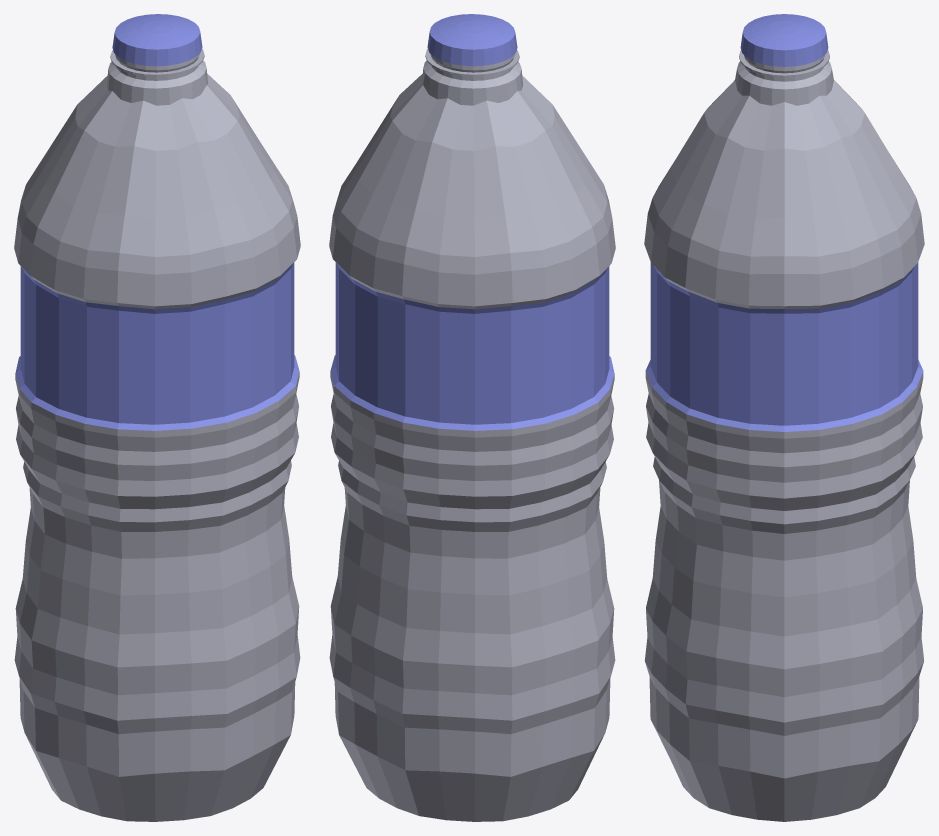
File: BotellaAgua.fbx
3 renders of one model, left to right at view 1: azimuth 30°, elevation 25°; view 2: azimuth 150°, elevation 25°; view 3: azimuth 270°, elevation 25°, orthographic.
Parts seen in each view (by area): view 1: AguaMedia; view 2: AguaMedia; view 3: AguaMedia.
Boxes of the visible parts, x1=… form: AguaMedia: x1=14, y1=14, x2=300, y2=821; AguaMedia: x1=329, y1=14, x2=615, y2=821; AguaMedia: x1=644, y1=14, x2=924, y2=821.
Bounding box in the file's own units: 7.1 × 20 × 6.79.
